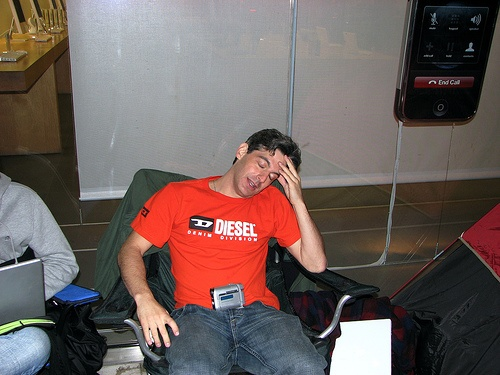head: (232, 128, 303, 200)
person: (116, 123, 331, 375), (1, 78, 79, 375)
